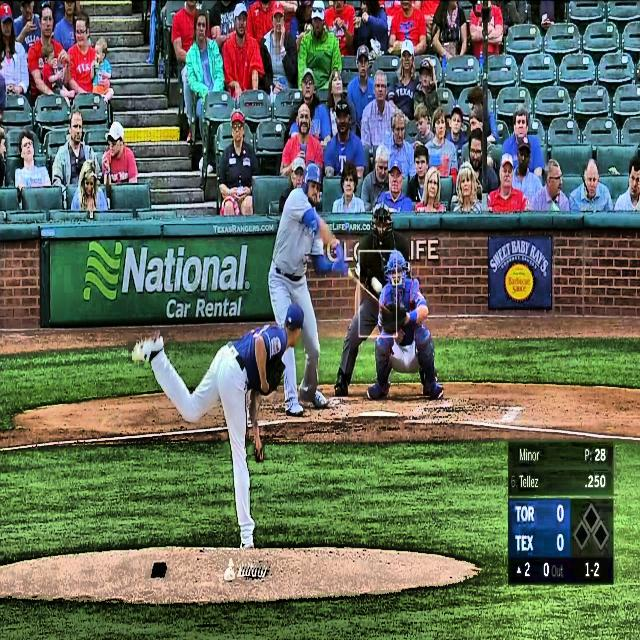baseball: (370, 276, 383, 294)
